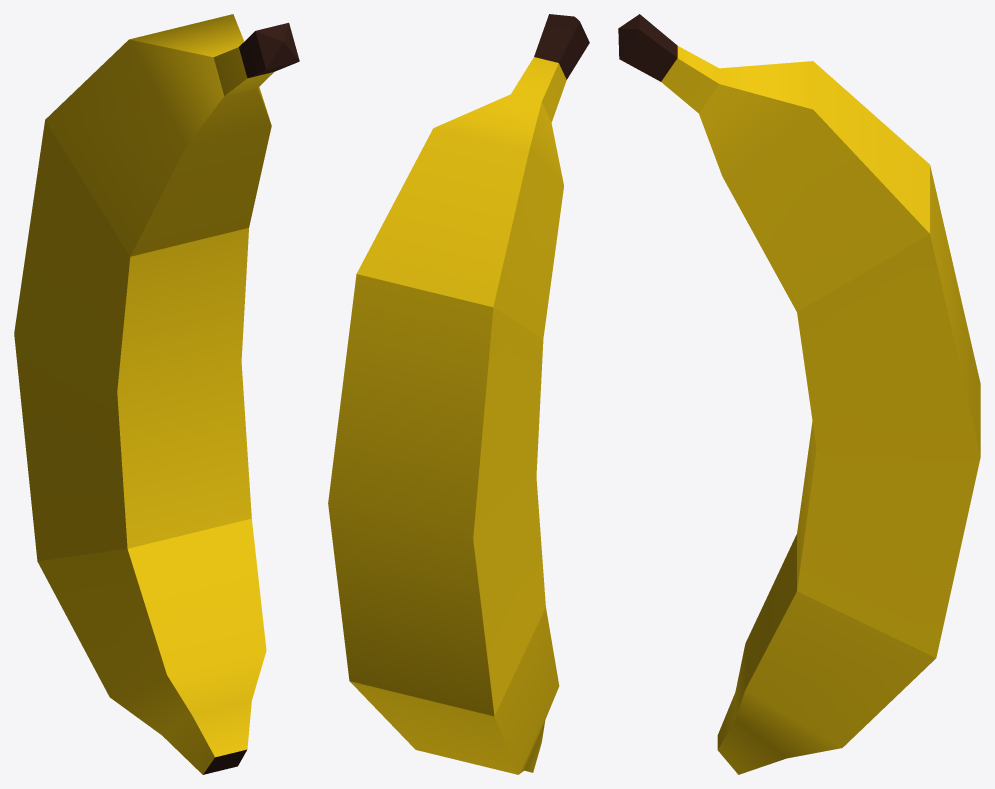
File: Banana_01.obj
3 views of the same model, side by side, from view 1: azimuth 30°, elevation 25°; view 2: azimuth 150°, elevation 25°; view 3: azimuth 270°, elevation 25° (orthographic). The views are drawn at different scales.
Visible parts, largest first — view 1: pasted__pCube11 group; view 2: pasted__pCube11 group; view 3: pasted__pCube11 group.
Part boxes in pixels (<box>): pasted__pCube11 group: <box>14,14,299,774</box>; pasted__pCube11 group: <box>328,14,589,774</box>; pasted__pCube11 group: <box>618,14,980,774</box>.
Bounding box in the file's own units: 20.76 × 97.95 × 43.17.
